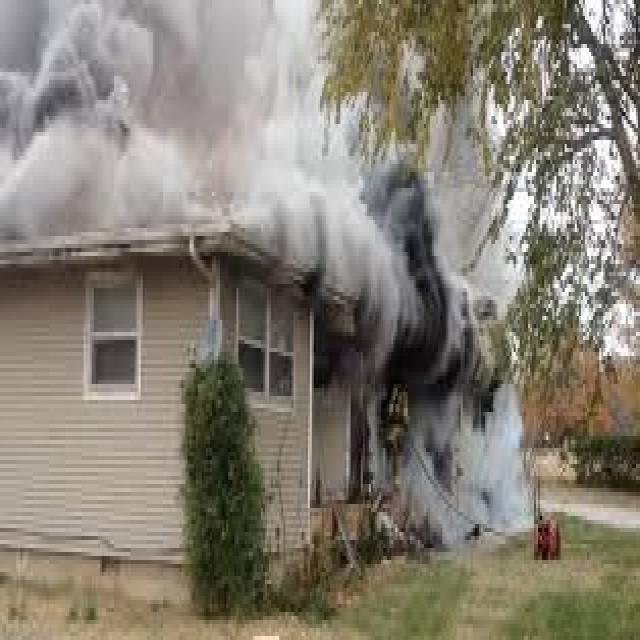Smoke: (0, 0, 472, 446), (476, 387, 534, 538)
